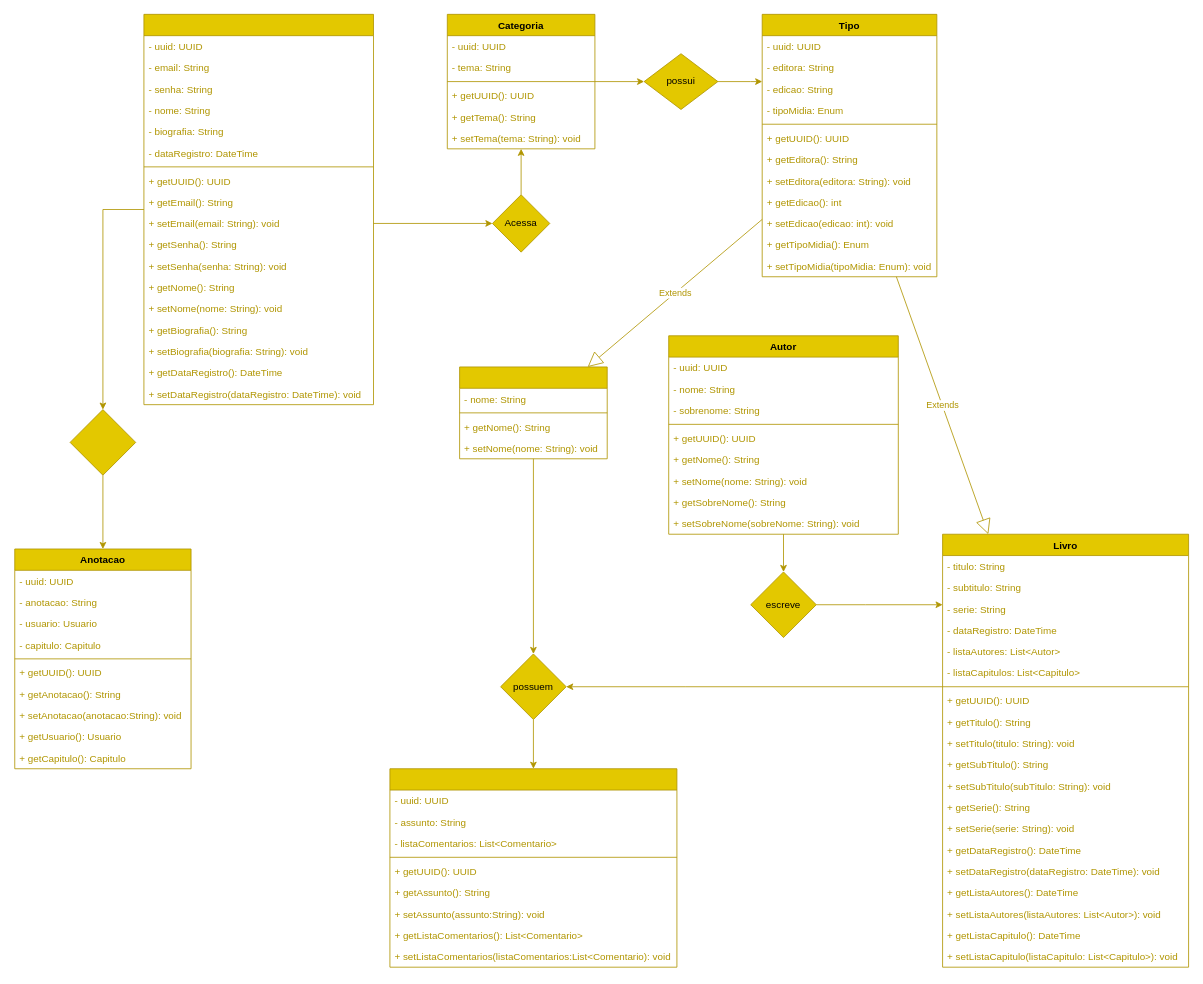
This 1203x984 diagram has some shape labels left out. The box of each missing label's shape, as (x1, y1, x2, y2) in pixels:
Capitulo: (389, 768, 677, 967)
faz: (69, 409, 136, 475)
Revista: (459, 366, 607, 459)
Usuario: (143, 14, 374, 405)
